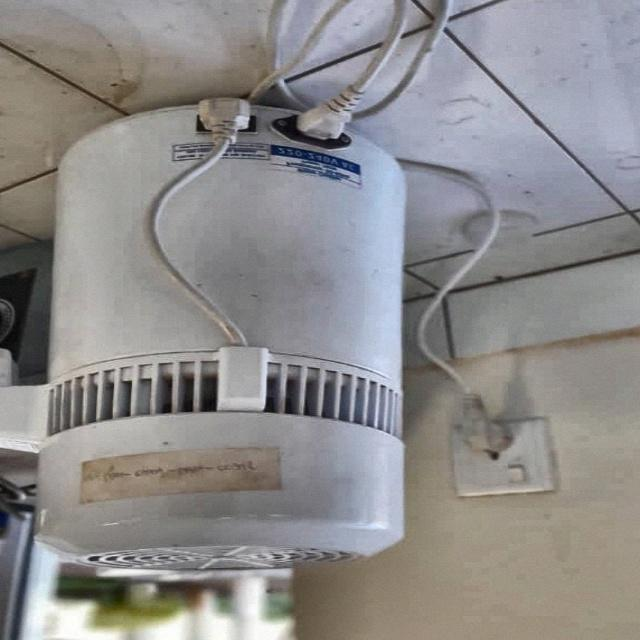Distilled Water Maker: (25, 89, 433, 576)
